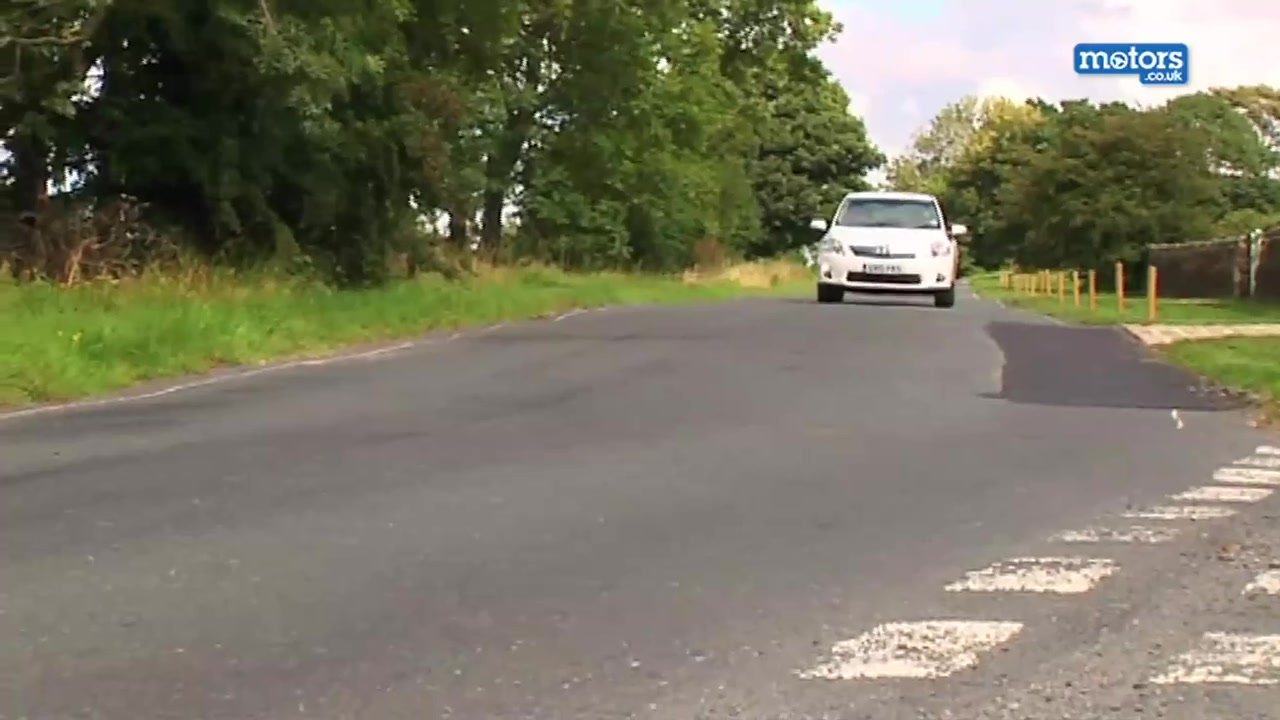car: (809, 189, 970, 309)
